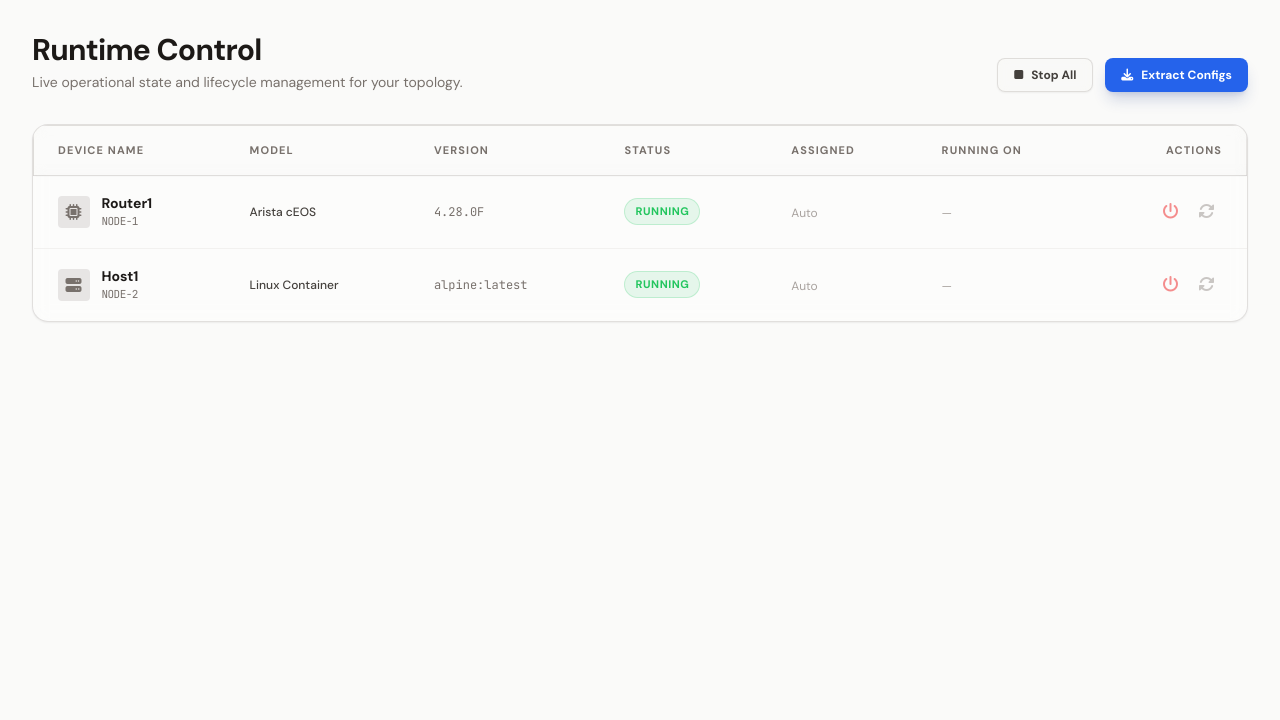
Scenario: RuntimeControl › Bulk actions › shows confirmation dialog on Stop All
Click the button "Stop All": (1045, 75) [997,58,1093,92]
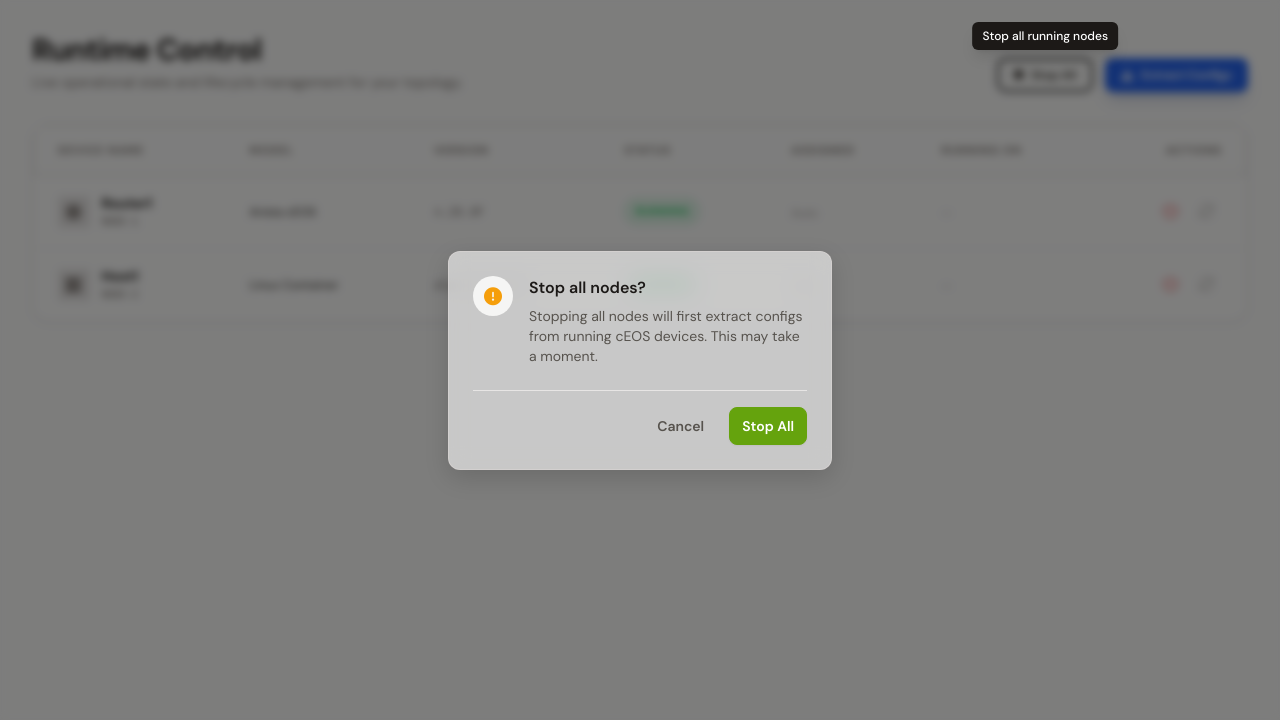
Expected: the heading "Stop all nodes?" is shown, [529,276,646,298]
Expected: the text "Stopping all nodes will first extract configs" is shown, [529,306,802,364]
